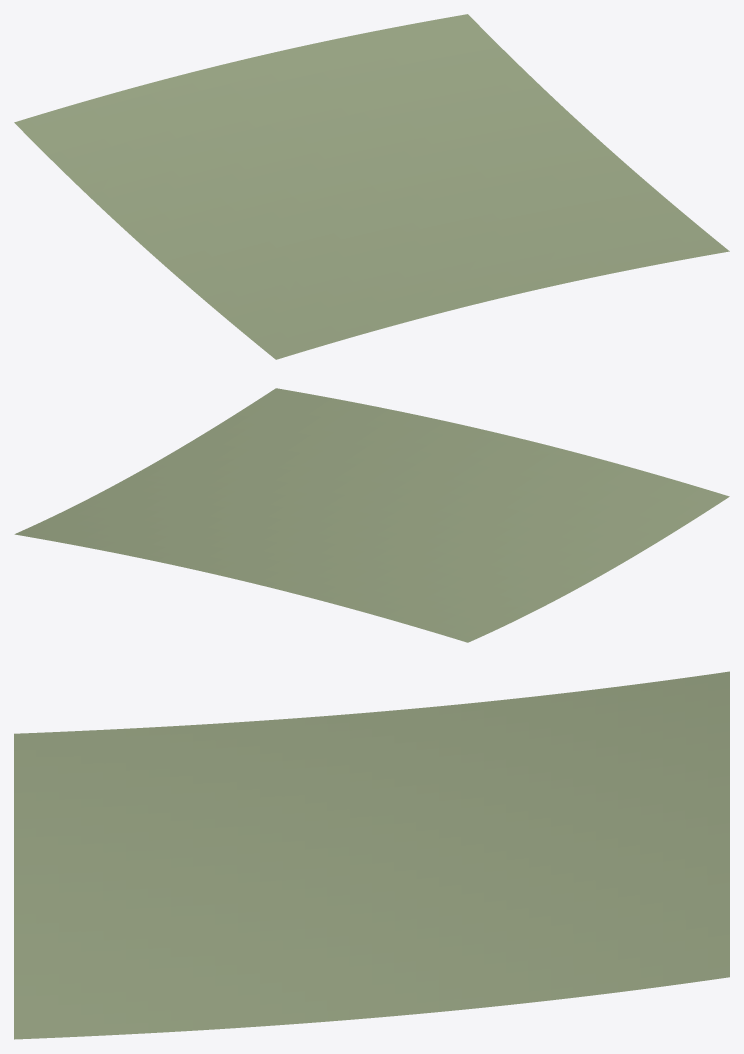
The model's file is valley-15-3.glb.
3 views of the same model, one above another, from view 1: azimuth 30°, elevation 25°; view 2: azimuth 150°, elevation 25°; view 3: azimuth 270°, elevation 25° (orthographic). The views are drawn at different scales.
Visible parts, largest first — view 1: valley-15-3; view 2: valley-15-3; view 3: valley-15-3.
Boxes of the visible parts, x1,y1,x2,y2 form: valley-15-3: (14,14,729,359); valley-15-3: (14,388,729,642); valley-15-3: (14,671,729,1039).
Bounding box in the file's own units: 256 × 29.58 × 256.
